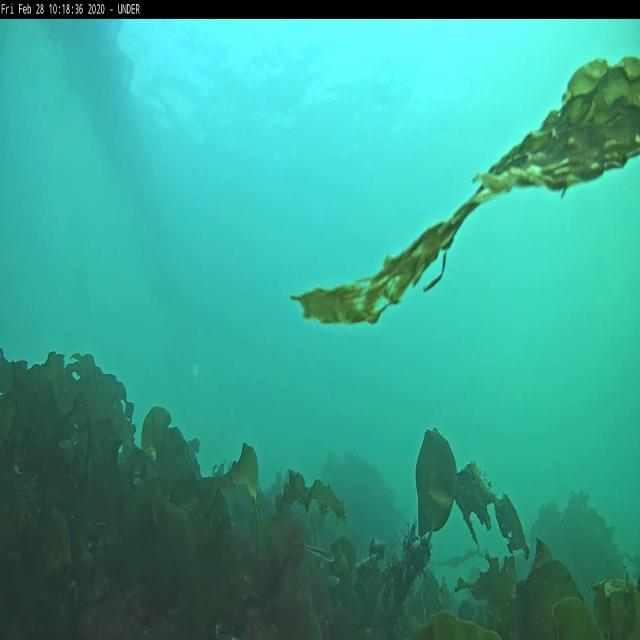fish: (306, 546, 336, 562)
